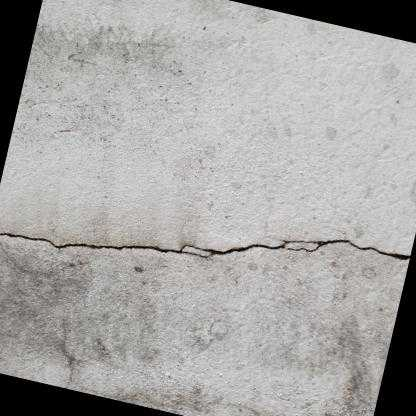crack: (0, 229, 412, 261)
